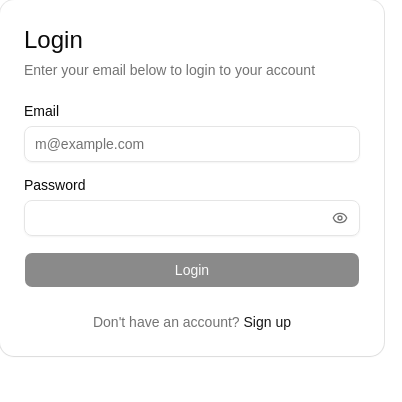
LoginForm - password field validation › clears the error once a valid password is entered
Type "short" into the password field labelled "Password" at (192, 218), box [24, 200, 360, 236]
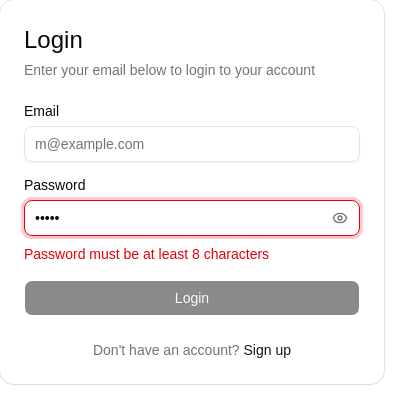
Press Tab
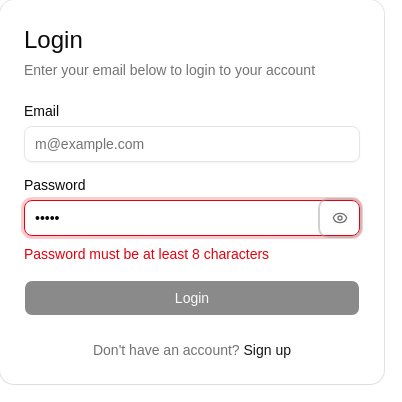
Expected: the text "Password must be at least 8 characters" is shown, [24, 246, 269, 262]
Type "12345678" into the password field labelled "Password" at (192, 218), box [24, 200, 360, 236]
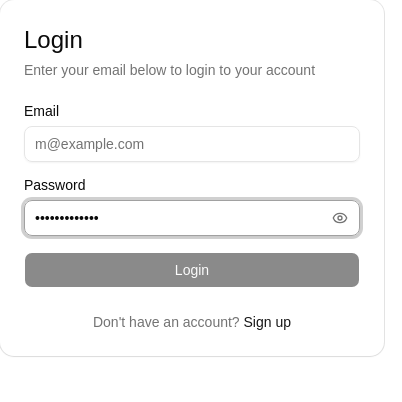
Expected: the text "Password must be at least 8 characters" is gone
